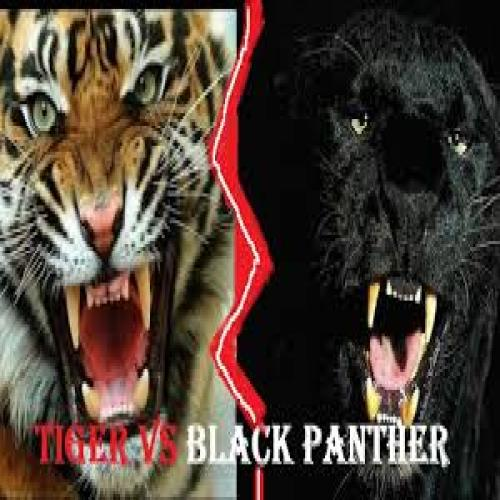panther-endangered: (254, 3, 500, 500)
